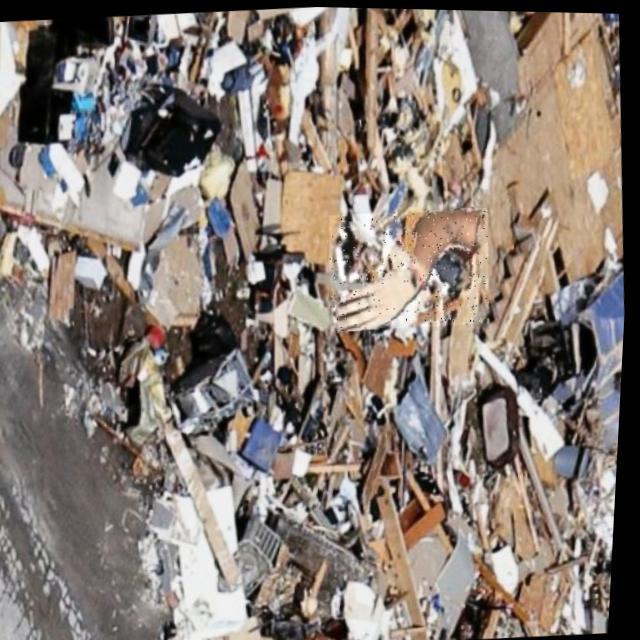Person in Rubble: (325, 202, 496, 332)
